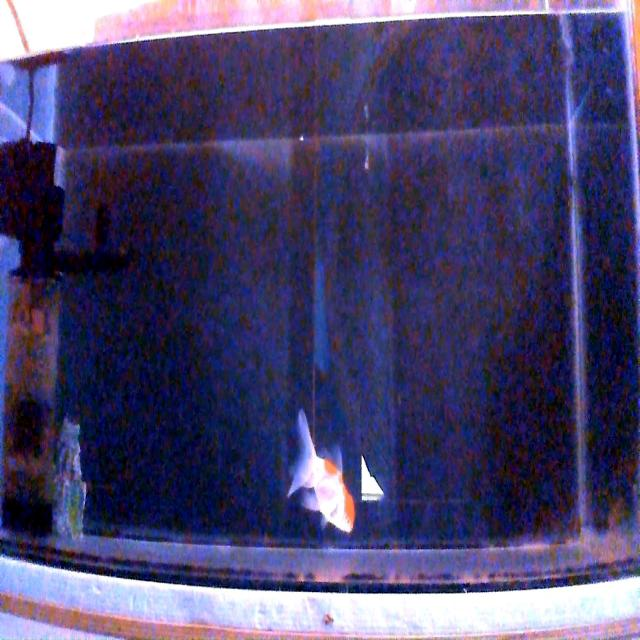fish: (286, 408, 357, 535)
